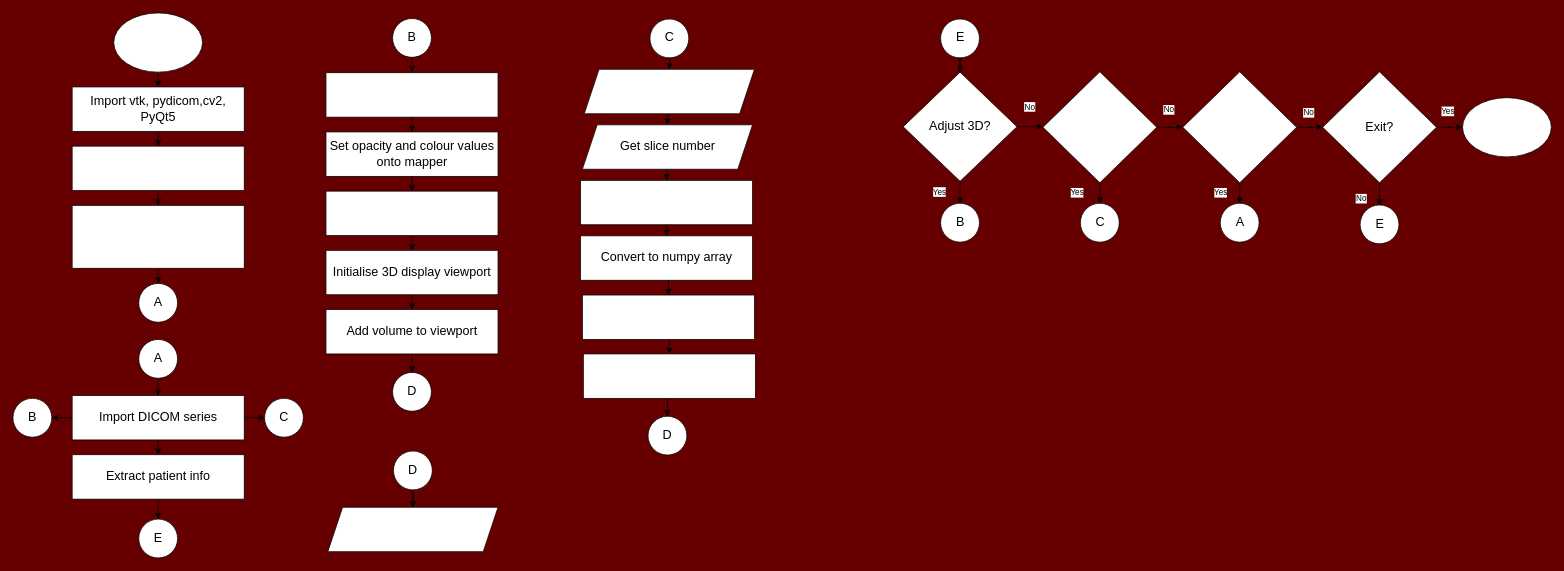
Image size: 1564x571. Some labels were removed from this diagram. The centre of each missing label's shape, as x and y in pixels:
"Apply colour map" belongs at (668,316).
"Convert to vtkImageData" belongs at (669,375).
"Display PyQT5 Interface" belongs at (157,168).
"End" belongs at (1506,127).
"Get axis" belongs at (668,91).
"Initialise DICOM reader, 3D display viewport, image viewer viewport" belongs at (157,236).
"New Import?" belongs at (1239,127).
"Reslice reader" belongs at (666,202).
"Set mapper onto vtkVolume" belongs at (411,213).
"Set reader output in volume mapper" belongs at (411,94).
"Start" belongs at (158,42).
"Switch image frame?" belongs at (1099,127).
"Update Display" belongs at (412,529).
